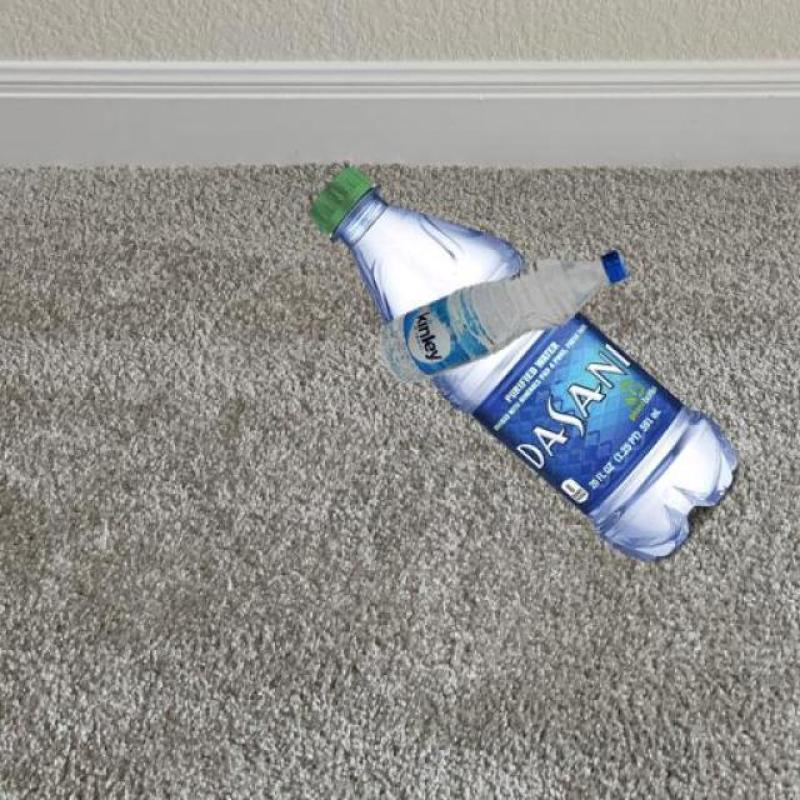botella: (307, 167, 742, 565), (374, 248, 628, 383)
